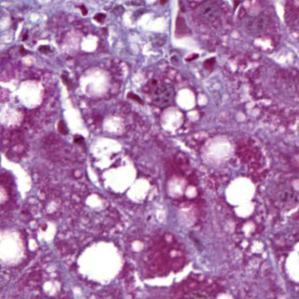steatosis: (220, 174, 263, 213)
